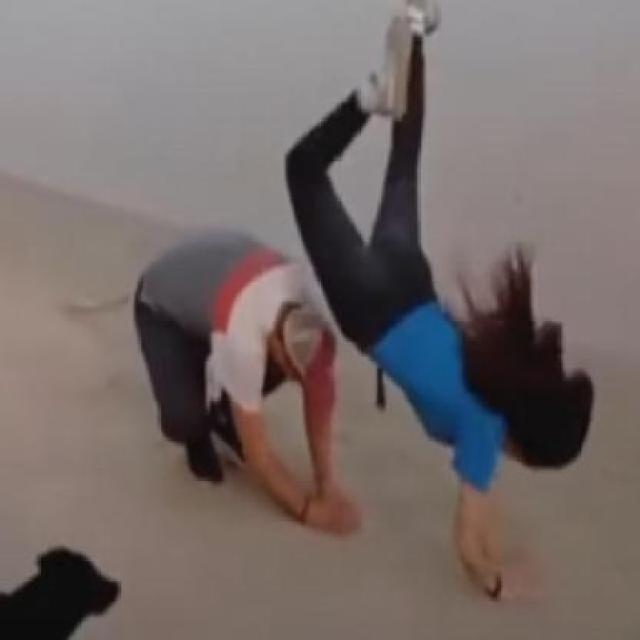fall: (282, 0, 602, 597), (131, 218, 358, 540)
